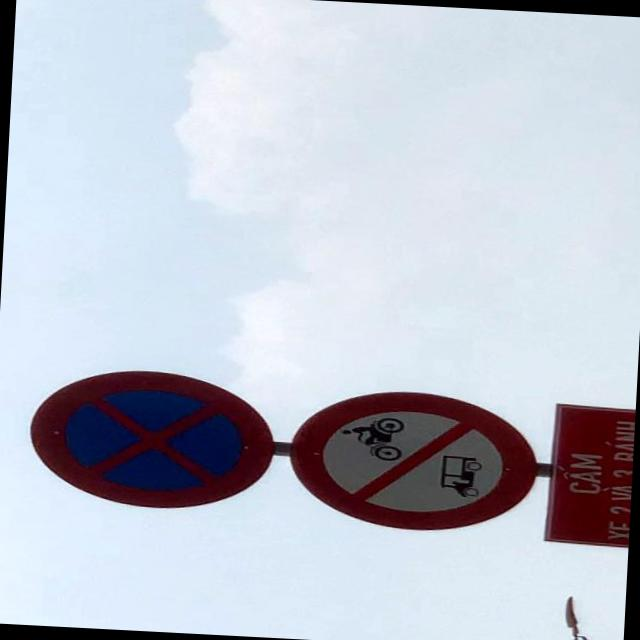P-104: (288, 386, 538, 534)
P-130: (26, 364, 280, 512)
